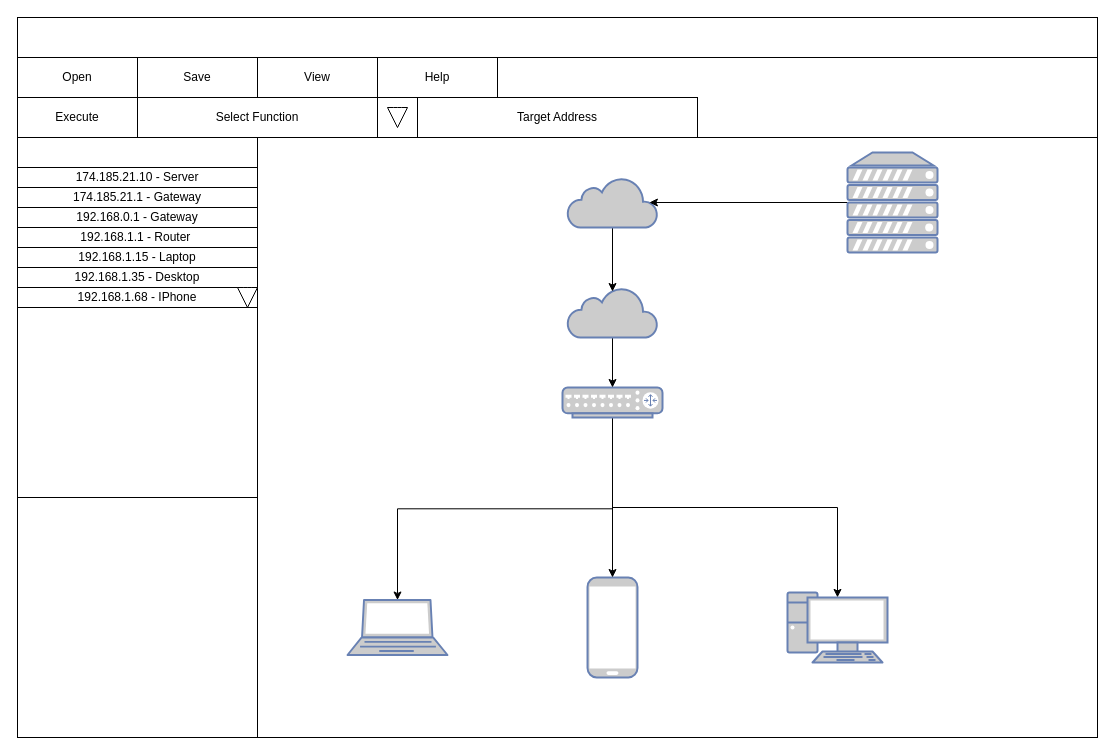
The diagram is 1115 pixels wide and 755 high, and some of its shapes have lost their labels. Each missing label, with the centre of its shape:
"Device Details IP Address: MAC Address: Vendor: Open Ports:" belongs at [137,402].
"Discovery Details" belongs at [137,152].
"LANMAP" belongs at [557,37].
